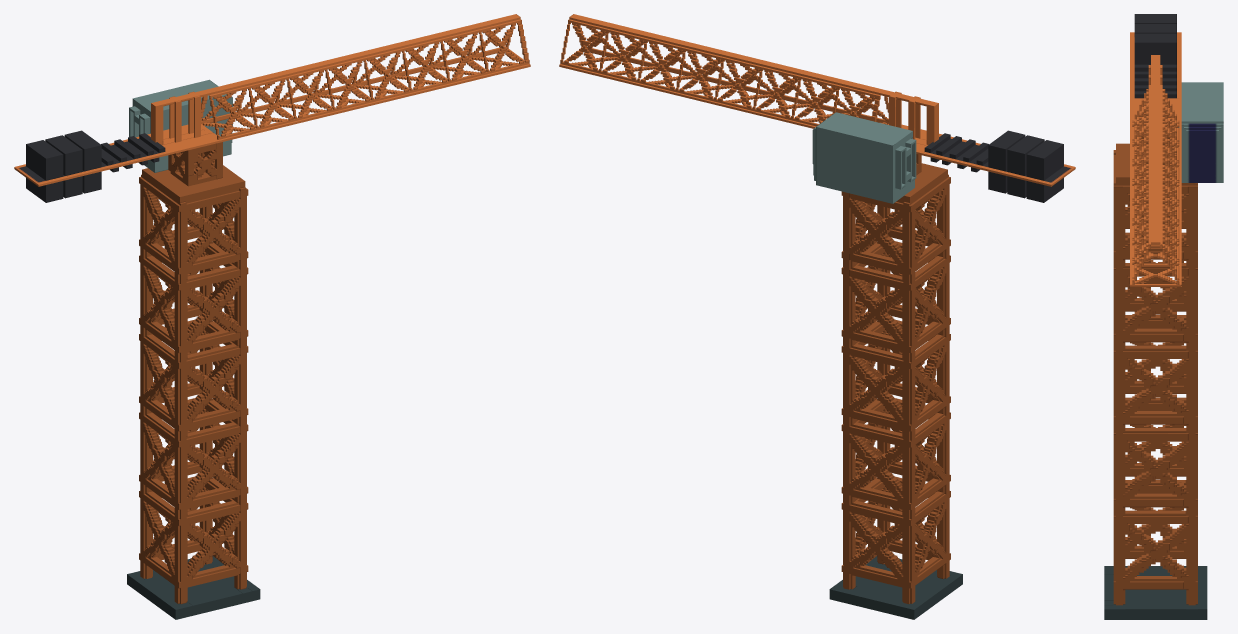
File: dzwig.dae
3 renders of one model, left to right at view 1: azimuth 30°, elevation 25°; view 2: azimuth 150°, elevation 25°; view 3: azimuth 270°, elevation 25°, orthographic. The views are drawn at different scales.
Parts seen in each view (by area): view 1: Content; view 2: Content; view 3: Content.
Boxes of the visible parts, x1=… form: Content: x1=14, y1=14, x2=530, y2=619; Content: x1=559, y1=14, x2=1075, y2=619; Content: x1=1104, y1=14, x2=1223, y2=619.
Bounding box in the file's own units: 256 × 247 × 51.
1 material, 1 textured.
